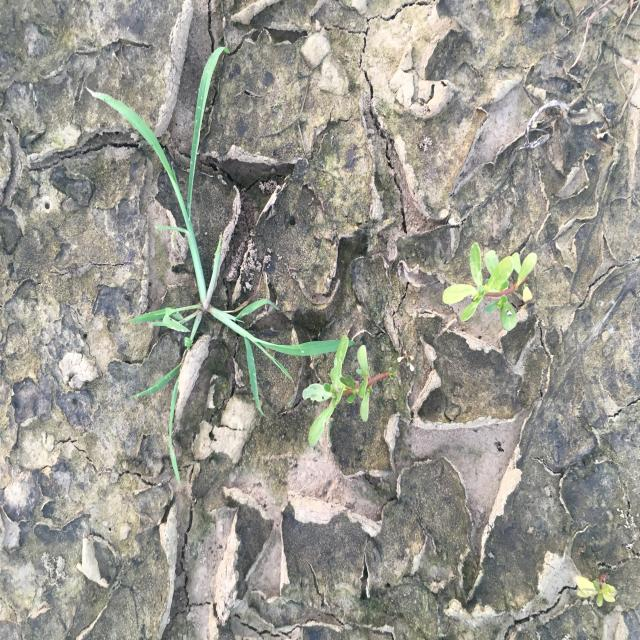Goosegrass: (84, 44, 358, 487)
Purslane: (301, 333, 400, 448), (441, 240, 539, 332)
